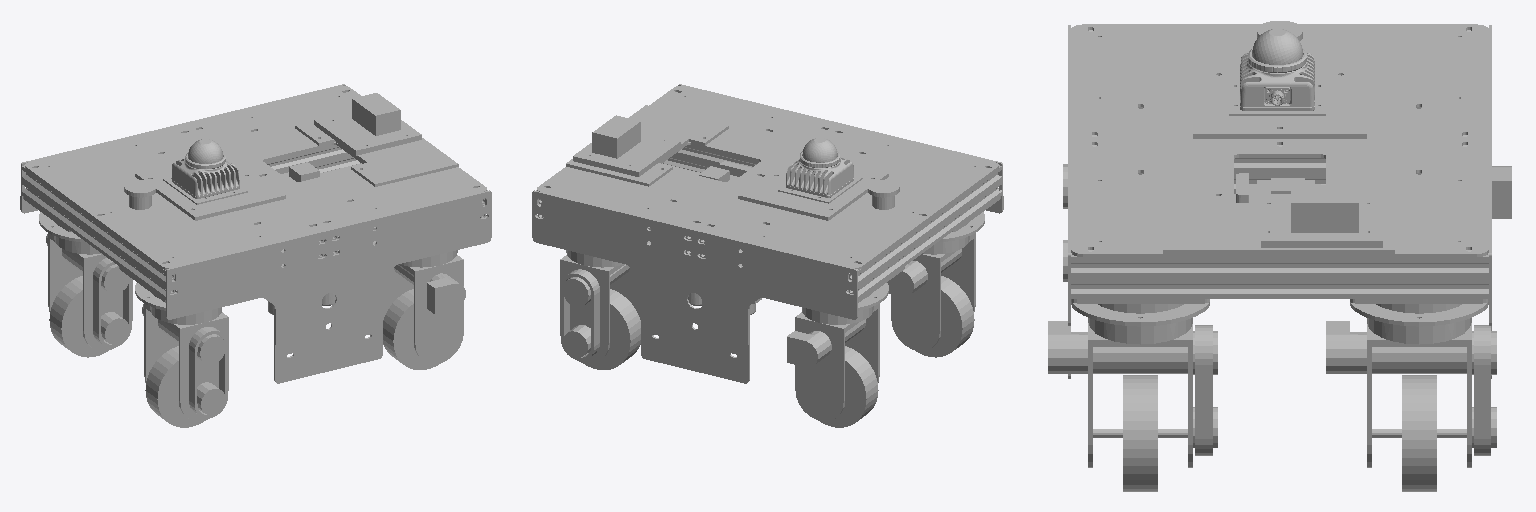
URDF robot description (chassis):
<?xml version="1.0" encoding="utf-8"?>

<robot
  name="chassis">
  <link
    name="base_link">
    <inertial>
      <mass value="18.5"/>
      <origin
        xyz="0.00460426296013341 0.000560168555316175 0.17108870691119"
        rpy="0 0 0" />
      <inertia
        ixx="0.0251639355582962"
        ixy="-6.16052391884279E-05"
        ixz="-5.95939896946409E-06"
        iyy="0.0485743320125798"
        iyz="-8.54366663498711E-06"
        izz="0.0561477814522484" />
    </inertial>
    <visual>
      <origin
        xyz="0 0 0"
        rpy="0 0 0" />
      <geometry>
        <mesh
          filename="package://car_bringup/meshes/base_link.STL" />
      </geometry>
      <material
        name="">
        <color
          rgba="0.752941176470588 0.752941176470588 0.752941176470588 1" />
      </material>
    </visual>
    <collision>
      <origin
        xyz="0 0 0"
        rpy="0 0 0" />
      <geometry>
        <mesh
          filename="package://car_bringup/meshes/base_link.STL" />
      </geometry>
    </collision>
  </link>
  <link
    name="lidar_link">
    <inertial>
      <origin
        xyz="0.000933726954274586 1.21116914032493E-05 -0.0255158800437479"
        rpy="0 0 0" />
      <mass
        value="0.064958193863409" />
      <inertia
        ixx="1.85906079775241E-05"
        ixy="-5.60334061539056E-09"
        ixz="-4.23762719890267E-10"
        iyy="1.70474084400921E-05"
        iyz="6.00565788616967E-10"
        izz="3.20469592047994E-05" />
    </inertial>
    <visual>
      <origin
        xyz="0 0 0"
        rpy="0 0 0" />
      <geometry>
        <mesh
          filename="package://car_bringup/meshes/lidar_link.STL" />
      </geometry>
      <material
        name="">
        <color
          rgba="0.752941176470588 0.752941176470588 0.752941176470588 1" />
      </material>
    </visual>
    <collision>
      <origin
        xyz="0 0 0"
        rpy="0 0 0" />
      <geometry>
        <mesh
          filename="package://car_bringup/meshes/lidar_link.STL" />
      </geometry>
    </collision>
  </link>
  <joint
    name="joint1"
    type="fixed">
    <origin
      xyz="0.069765 0.0020959 -0.3067"
      rpy="0 0 0" />
    <parent
      link="lidar_link" />
    <child
      link="base_link" />
    <axis
      xyz="0 0 0" />
  </joint>
  <gazebo reference="base_link">
  <material>Gazebo/Silver</material>
  </gazebo>
  <gazebo reference="lidar_link">
  <material>Gazebo/Blue</material>
  </gazebo>
</robot>

--- Render facts (derived) ---
Views: 3 orthographic renders of the robot side by side, from view 1: azimuth 30°, elevation 25°; view 2: azimuth 150°, elevation 25°; view 3: azimuth 270°, elevation 25°.
Robot: chassis — 2 links, 1 joints (1 fixed); root link lidar_link; default pose: all joints at 0.
Visible links, largest first — view 1: base_link, lidar_link; view 2: base_link, lidar_link; view 3: base_link, lidar_link.
Boxes of the visible links, x1,y1,x2,y2 form: base_link: (20,84,491,427); lidar_link: (163,139,247,204); base_link: (532,84,1003,427); lidar_link: (778,138,862,203); base_link: (1048,21,1511,491); lidar_link: (1229,29,1325,115).
Bounding box of the posed robot: 0.4682 × 0.4 × 0.3173 m (x, y, z).
Meshes: 2 distinct files referenced, 2 mesh visuals loaded (2 binary STL).
